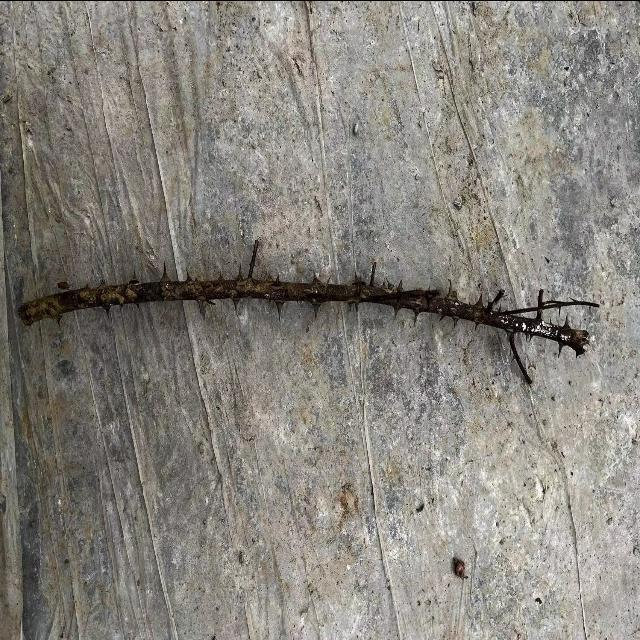branch: (20, 274, 590, 351)
